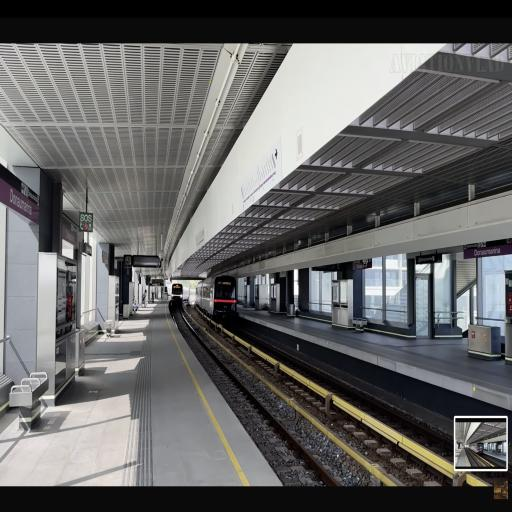X-Wagen: (195, 274, 239, 324), (170, 281, 184, 307)
